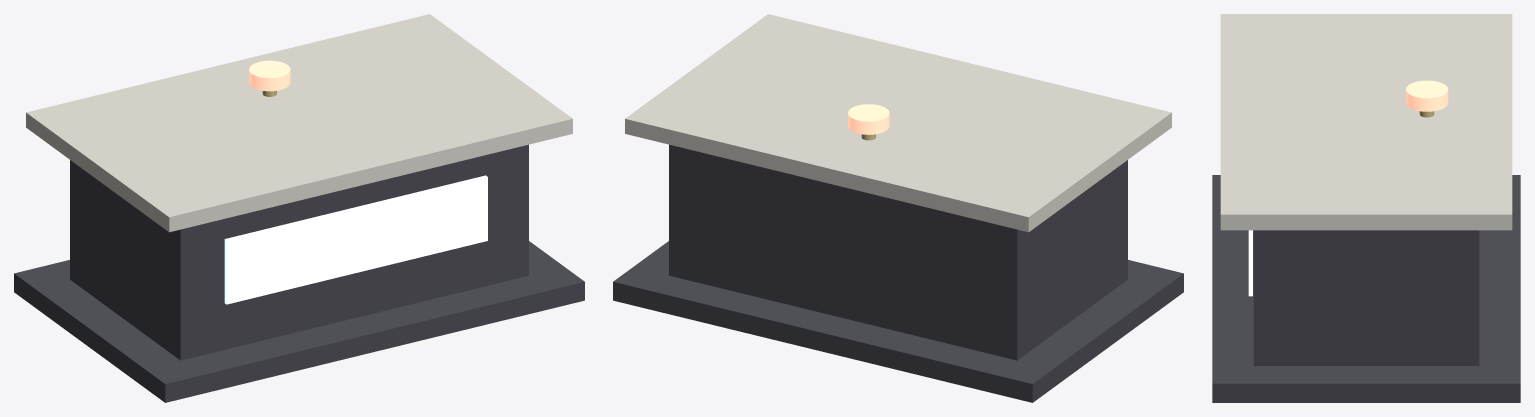
Rendered from bb_set_podium.fbx.
3 views of the same model, side by side, from view 1: azimuth 30°, elevation 25°; view 2: azimuth 150°, elevation 25°; view 3: azimuth 270°, elevation 25° (orthographic).
Visible parts, largest first — view 1: bb_set_podium; view 2: bb_set_podium; view 3: bb_set_podium.
Part boxes in pixels (left/top/right/bottom): bb_set_podium: left=14, top=14, right=584, bottom=402; bb_set_podium: left=613, top=14, right=1183, bottom=402; bb_set_podium: left=1212, top=14, right=1520, bottom=402.
Size of the model in its own units: 2.33 by 1.09 by 1.46.
